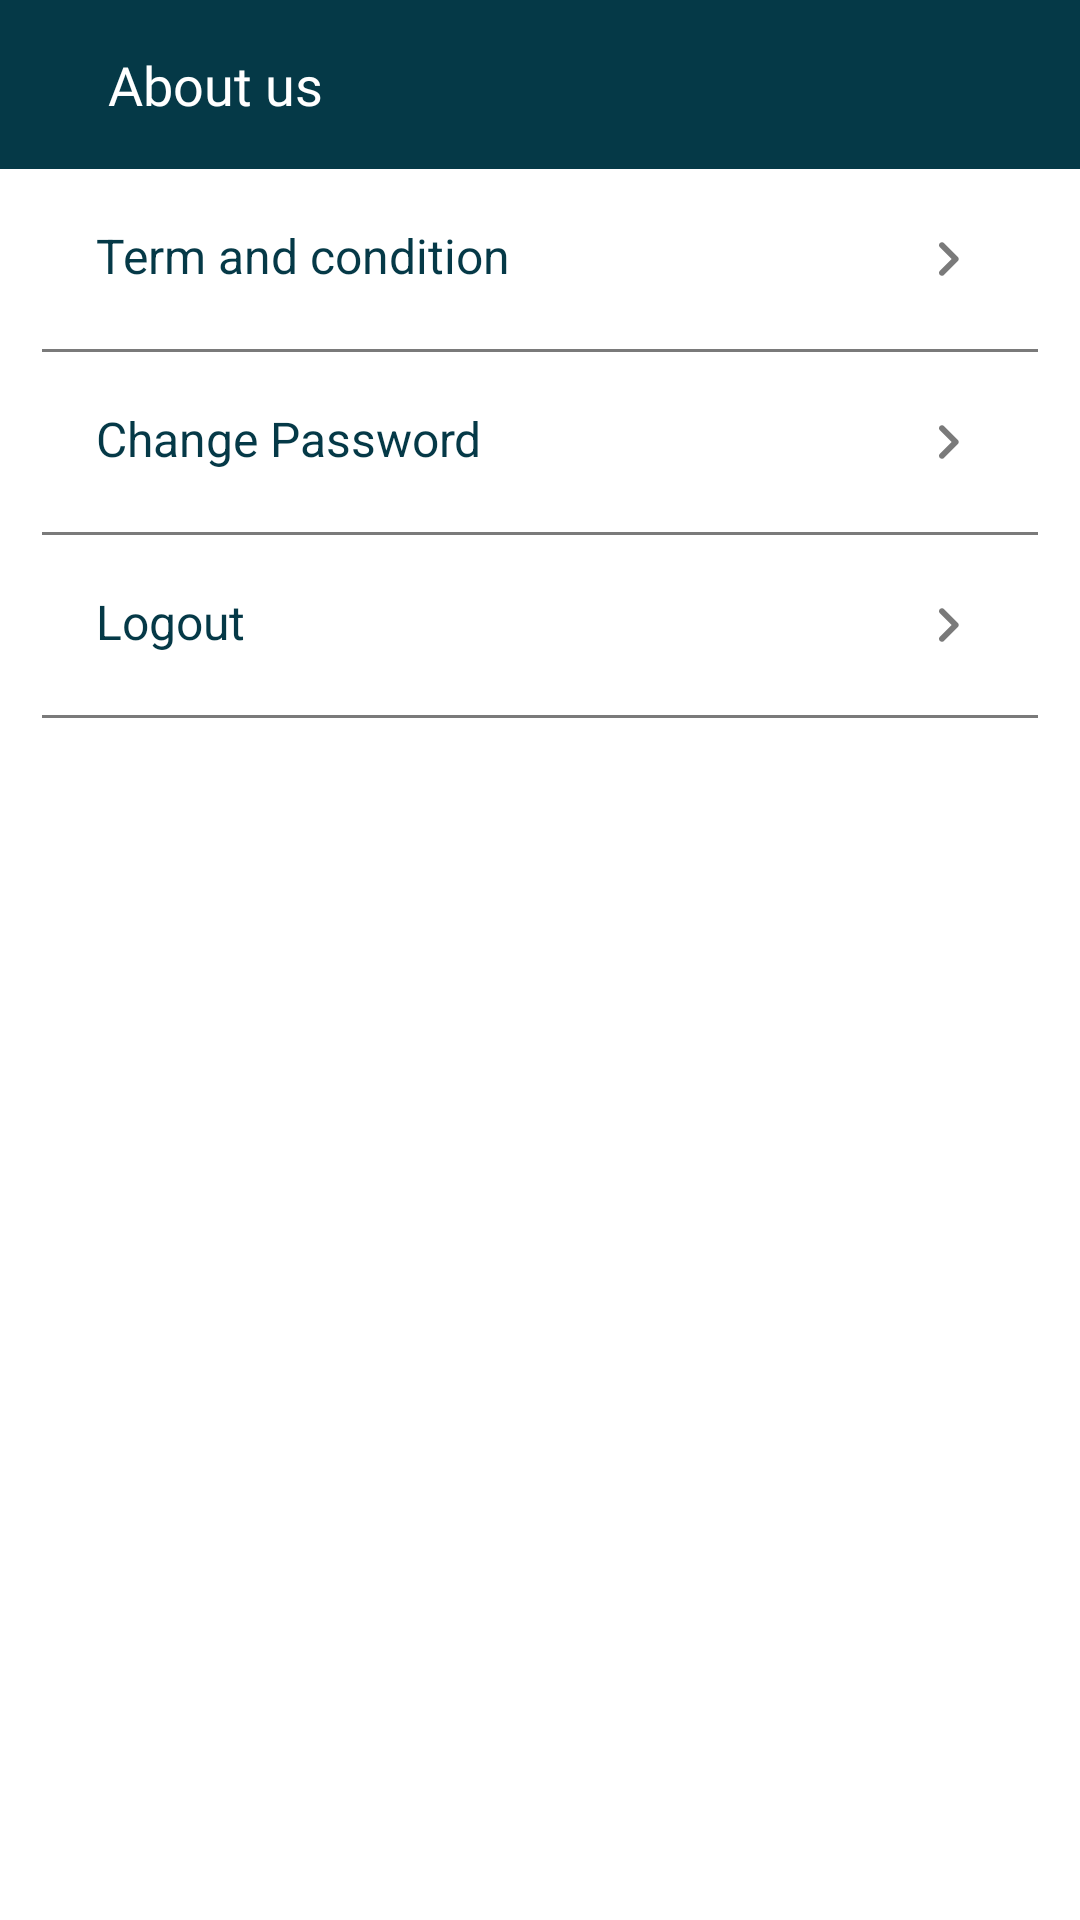

Named icons in this screenshot (1080 x 1920) and their centers, [x,y]:
arrow right: [949,259], [949,442], [949,625]
